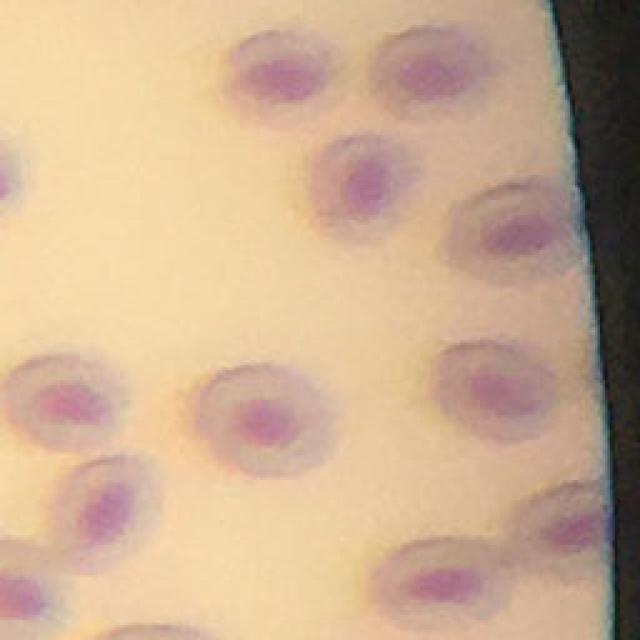RBC: (194, 364, 335, 478), (437, 177, 576, 288), (47, 454, 170, 578), (366, 535, 518, 634), (217, 28, 360, 133), (308, 133, 434, 248), (368, 21, 501, 127), (425, 340, 560, 444), (0, 352, 137, 454), (505, 481, 606, 582), (0, 538, 88, 640)
